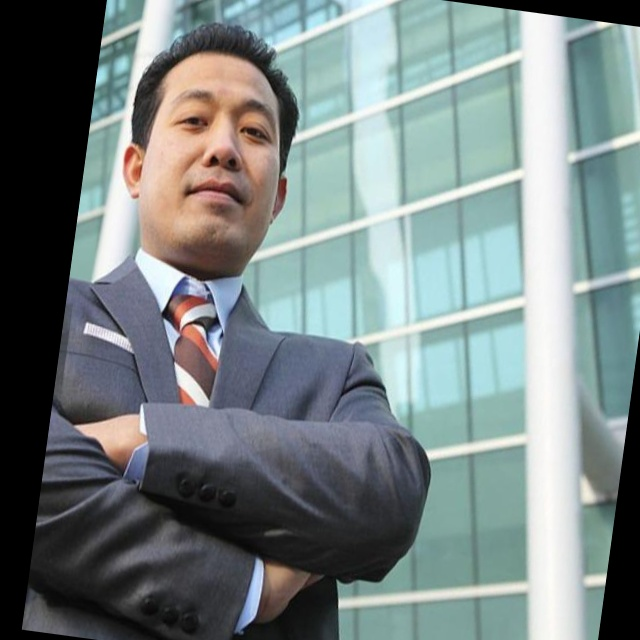Sin_Casco_Mascarrilla: (113, 13, 311, 280)
Sin_Chaleco: (23, 252, 398, 640)
